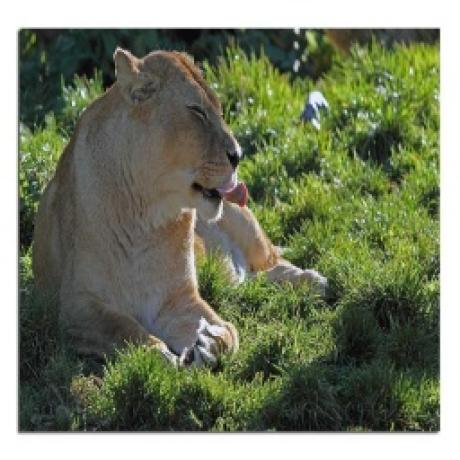Lion: (30, 41, 327, 370)
